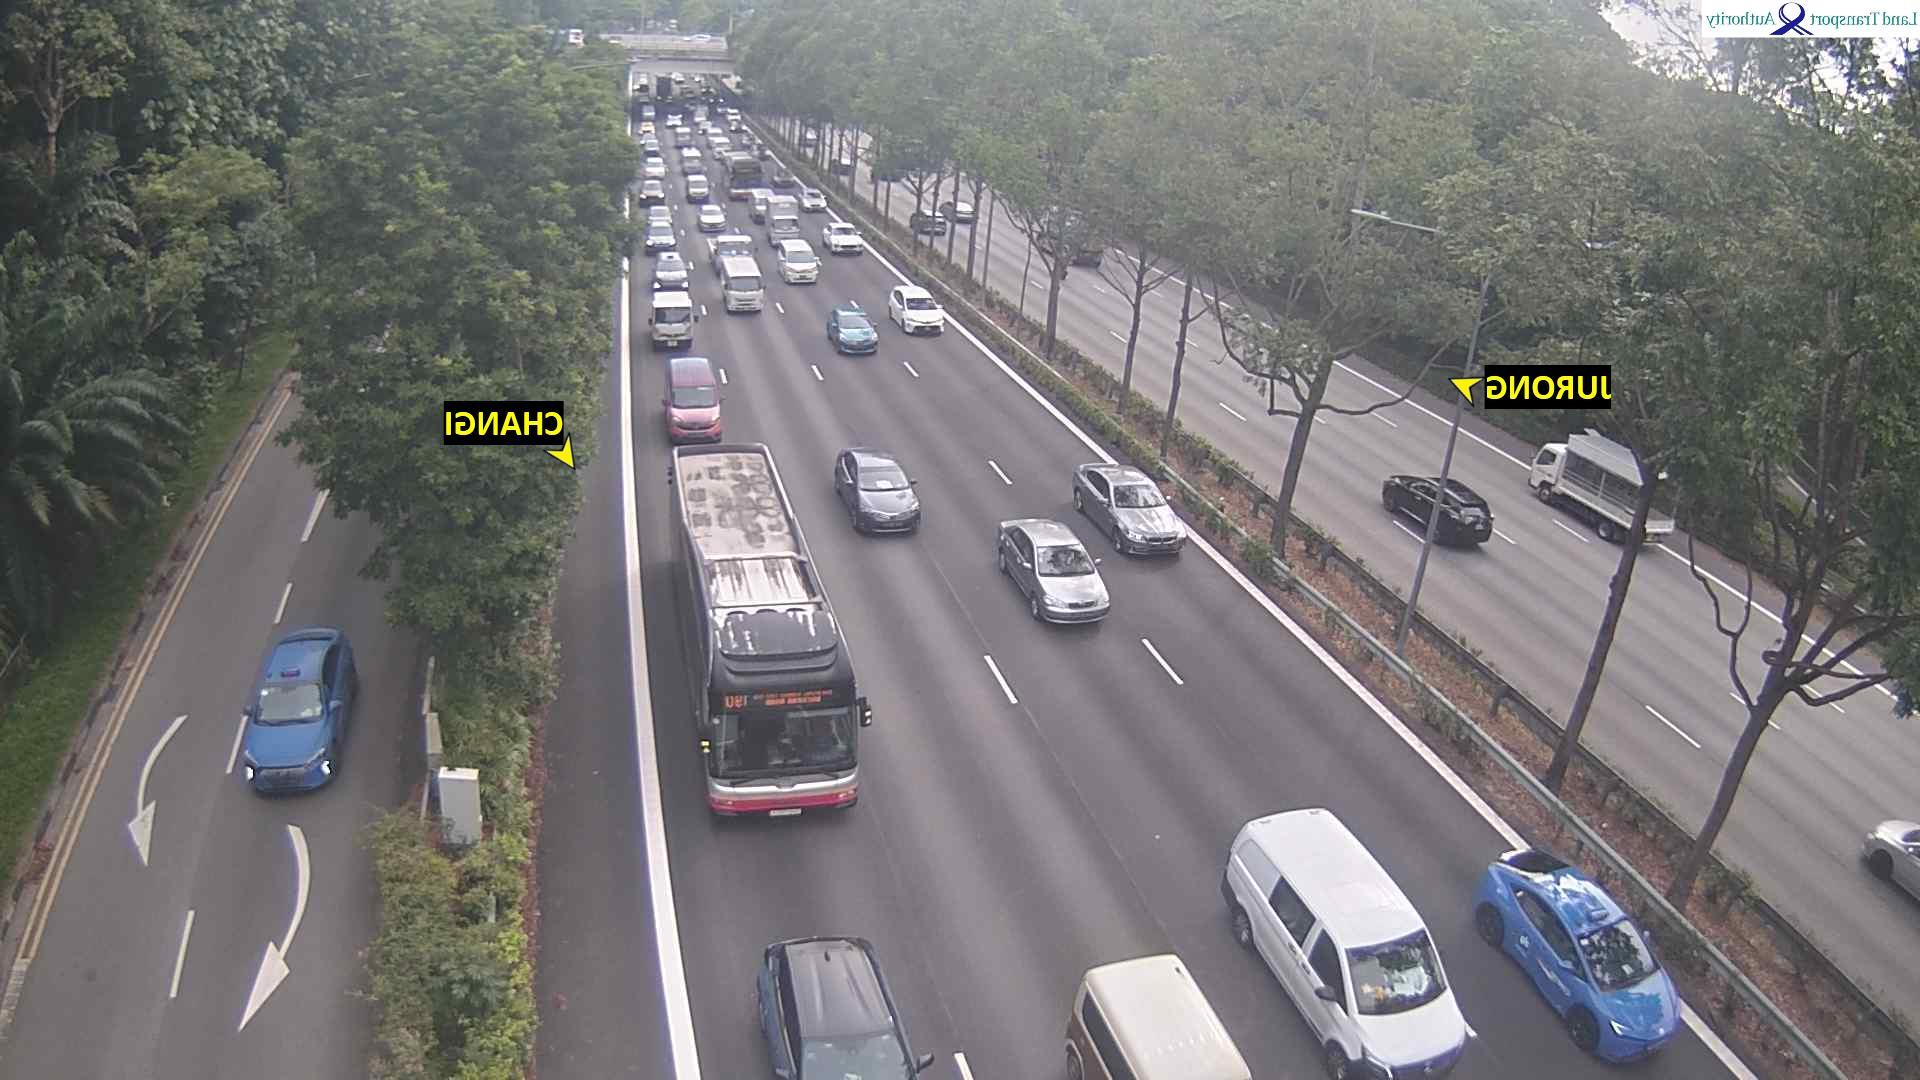incoming: (685, 652, 876, 829), (1306, 922, 1486, 1078), (1561, 906, 1690, 1064), (236, 669, 351, 799), (1020, 542, 1111, 626), (1096, 481, 1186, 557), (842, 461, 920, 540), (660, 380, 726, 448), (646, 306, 700, 353), (830, 311, 882, 358), (894, 295, 944, 337), (721, 274, 769, 315), (724, 159, 768, 201), (777, 248, 822, 286), (648, 259, 692, 292), (766, 216, 803, 249), (696, 206, 730, 233), (644, 226, 677, 252), (685, 178, 714, 204), (638, 182, 667, 206), (798, 191, 828, 212), (640, 160, 668, 179), (772, 167, 796, 187)
